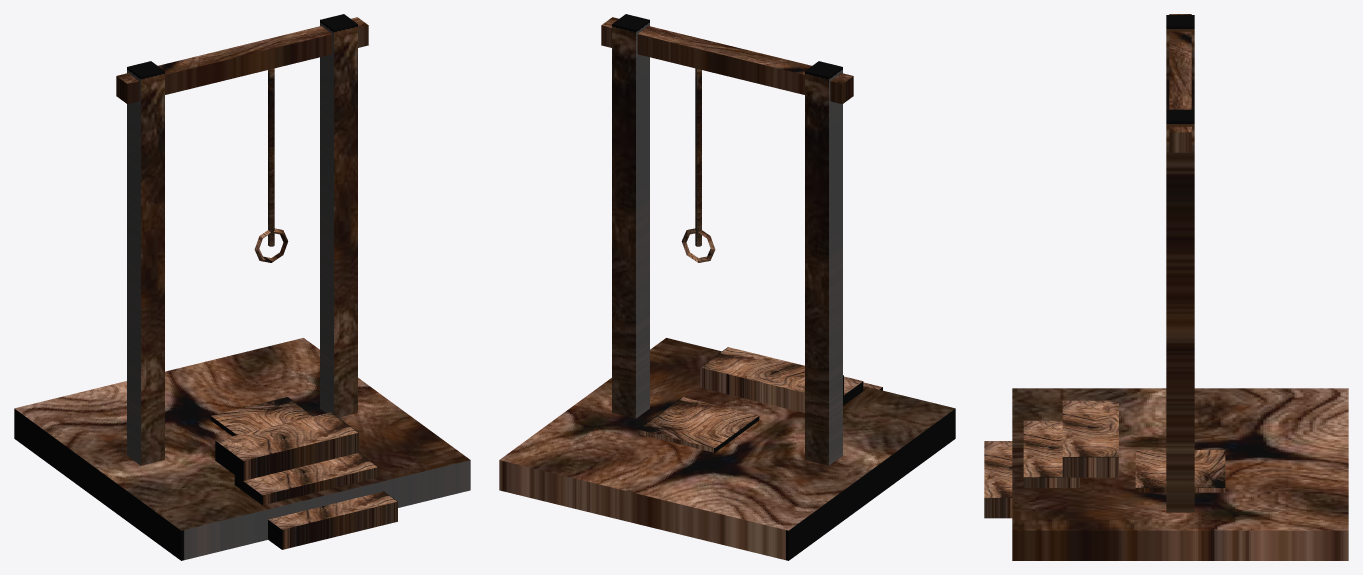
The model's file is gallows.glb.
3 views of the same model, side by side, from view 1: azimuth 30°, elevation 25°; view 2: azimuth 150°, elevation 25°; view 3: azimuth 270°, elevation 25° (orthographic).
Visible parts, largest first — view 1: GAL_Platform, GAL_Post_Left, GAL_Post_Right, GAL_Beam, GAL_Step_3, GAL_Step_1, GAL_Step_2, GAL_Trapdoor, GAL_Rope; view 2: GAL_Platform, GAL_Post_Right, GAL_Post_Left, GAL_Beam, GAL_Step_3, GAL_Trapdoor, GAL_Rope; view 3: GAL_Platform, GAL_Post_Right, GAL_Step_3, GAL_Step_2, GAL_Trapdoor, GAL_Beam, GAL_Step_1, GAL_Post_Left.
Boxes of the visible parts, bbox=[...] form: GAL_Platform: bbox=[14, 338, 470, 560]; GAL_Post_Left: bbox=[127, 61, 164, 465]; GAL_Post_Right: bbox=[320, 14, 357, 417]; GAL_Beam: bbox=[116, 17, 368, 104]; GAL_Step_3: bbox=[215, 412, 358, 480]; GAL_Step_1: bbox=[268, 491, 397, 549]; GAL_Step_2: bbox=[234, 453, 378, 505]; GAL_Trapdoor: bbox=[210, 397, 313, 436]; GAL_Rope: bbox=[268, 68, 274, 246]; GAL_Platform: bbox=[499, 338, 955, 560]; GAL_Post_Right: bbox=[612, 14, 649, 418]; GAL_Post_Left: bbox=[805, 61, 842, 465]; GAL_Beam: bbox=[601, 17, 853, 104]; GAL_Step_3: bbox=[700, 347, 843, 412]; GAL_Trapdoor: bbox=[637, 397, 759, 452]; GAL_Rope: bbox=[695, 68, 701, 246]; GAL_Platform: bbox=[1012, 388, 1348, 560]; GAL_Post_Right: bbox=[1166, 109, 1194, 512]; GAL_Step_3: bbox=[1062, 400, 1118, 477]; GAL_Step_2: bbox=[1023, 420, 1079, 487]; GAL_Trapdoor: bbox=[1135, 450, 1225, 492]; GAL_Beam: bbox=[1169, 14, 1191, 152]; GAL_Step_1: bbox=[984, 441, 1012, 518]; GAL_Post_Left: bbox=[1166, 15, 1194, 109].
Size of what is drawn, in the model's own units: 3 by 4.15 by 3.25.
Materials: 1 (1 with a texture image).
